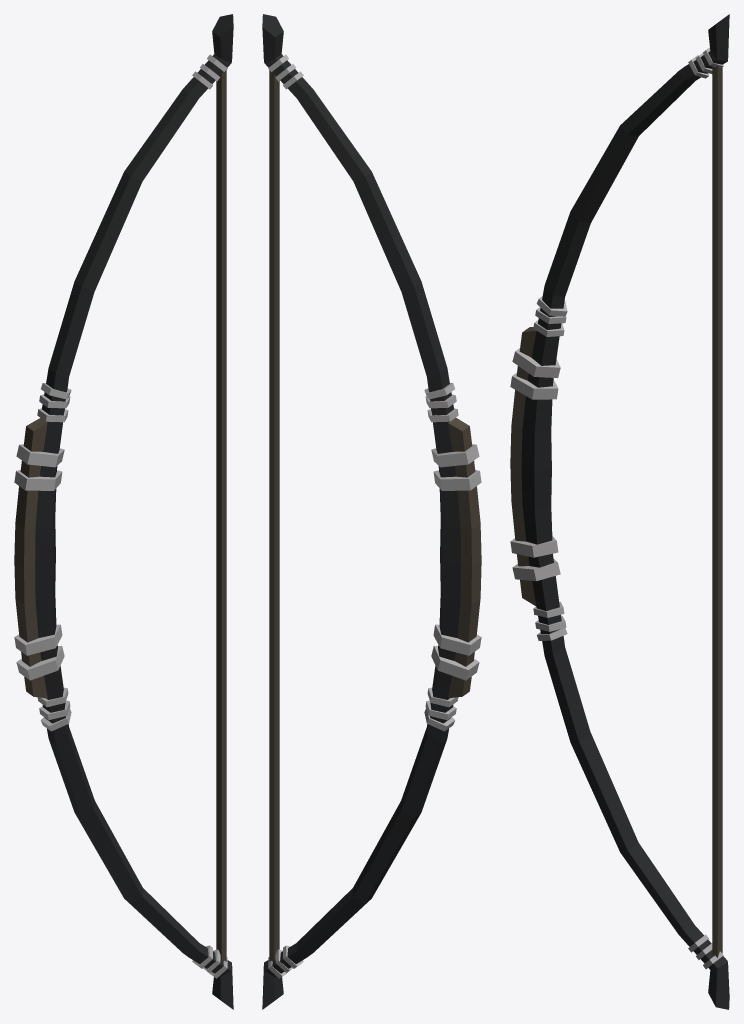
Rendered from _bow_13.glb.
3 renders of one model, left to right at view 1: azimuth 30°, elevation 25°; view 2: azimuth 150°, elevation 25°; view 3: azimuth 330°, elevation 25°, orthographic.
Parts seen in each view (by area): view 1: bow_13; view 2: bow_13; view 3: bow_13.
Boxes of the visible parts, bbox=[...] form: bow_13: bbox=[14, 14, 233, 1009]; bow_13: bbox=[262, 14, 481, 1009]; bow_13: bbox=[510, 14, 729, 1009].
Size of the model in its own units: 7103 by 31587 by 1026.
Materials: 1 (1 with a texture image).
